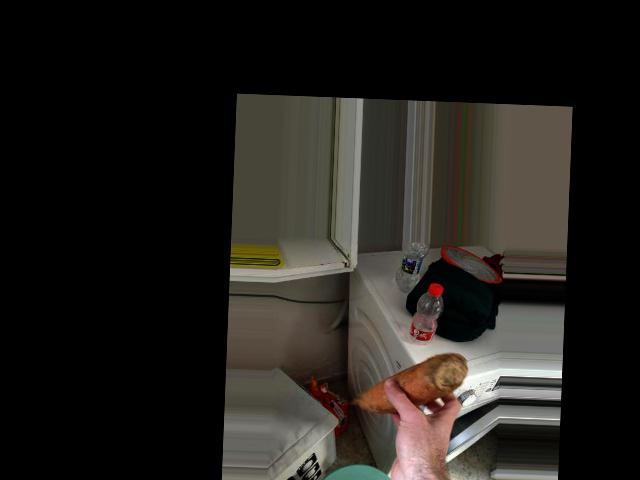sweet_potato: (360, 345, 461, 425)
